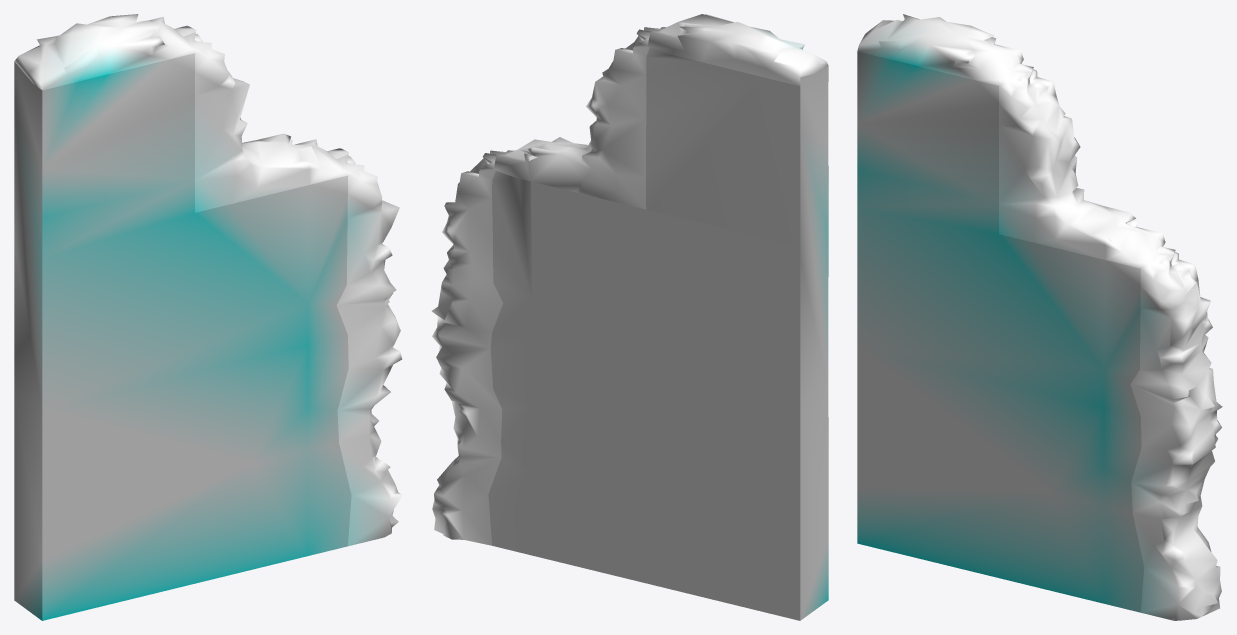
Rendered from SM_Throne_Exterior_Wall_Broken_01.fbx.
The picture shows the model from 3 angles, left to right: view 1: azimuth 30°, elevation 25°; view 2: azimuth 150°, elevation 25°; view 3: azimuth 330°, elevation 25°; orthographic projection. The views are drawn at different scales.
Visible parts, largest first — view 1: SM_Throne_Exterior_Wall_Broken_01; view 2: SM_Throne_Exterior_Wall_Broken_01; view 3: SM_Throne_Exterior_Wall_Broken_01.
Part boxes in pixels (x1,y1,x2,y2): SM_Throne_Exterior_Wall_Broken_01: [14, 14, 402, 620]; SM_Throne_Exterior_Wall_Broken_01: [432, 14, 828, 620]; SM_Throne_Exterior_Wall_Broken_01: [857, 14, 1222, 620].
Size of the model in its own units: 9.2 by 13.28 by 1.65.
